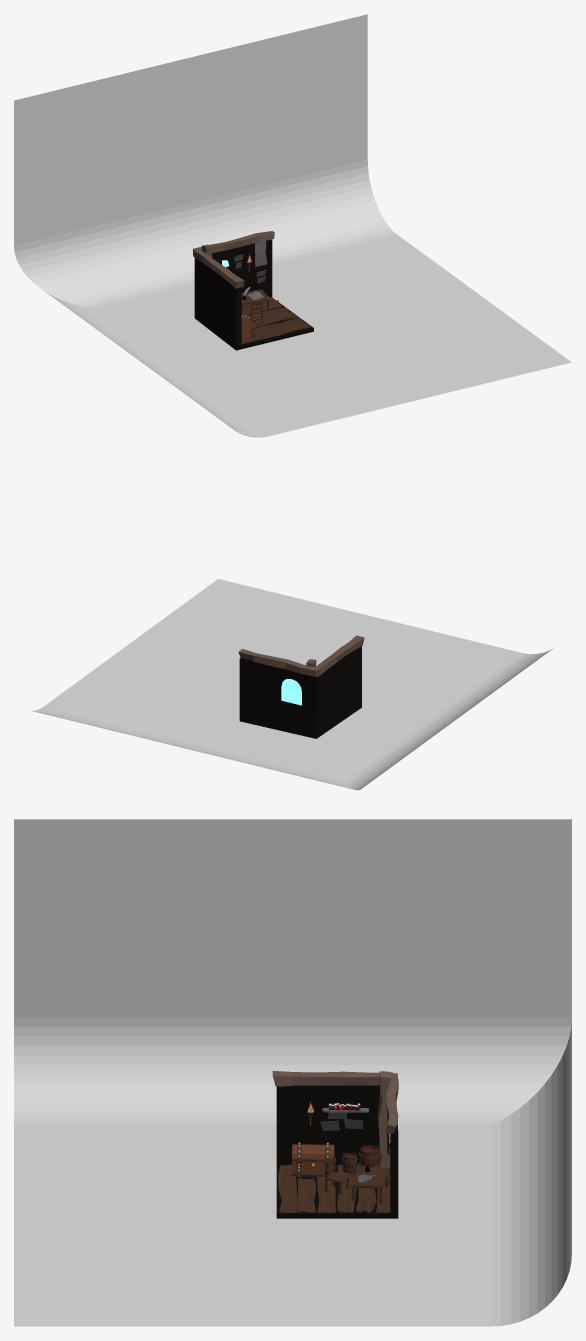
The model's file is medieval+study+room.glb.
3 renders of one model, top to bottom at view 1: azimuth 30°, elevation 25°; view 2: azimuth 150°, elevation 25°; view 3: azimuth 270°, elevation 25°, orthographic. The views are drawn at different scales.
Parts seen in each view (by area): view 1: Plane.013, Cube.007, Plane.008; view 2: Plane.013, Cube.007, Plane.008, Cube.006; view 3: Plane.013, Cube.007, Plane.008, Cube.011, Plane, Plane.006.
Part boxes in pixels (left/top/right/bottom): Plane.013: left=14, top=14, right=571, bottom=437; Cube.007: left=194, top=239, right=313, bottom=350; Plane.008: left=193, top=231, right=274, bottom=288; Plane.013: left=30, top=579, right=553, bottom=790; Cube.007: left=239, top=646, right=361, bottom=738; Plane.008: left=238, top=635, right=364, bottom=676; Cube.006: left=281, top=679, right=301, bottom=705; Plane.013: left=14, top=819, right=571, bottom=1326; Cube.007: left=276, top=1085, right=398, bottom=1218; Plane.008: left=272, top=1071, right=398, bottom=1167; Cube.011: left=290, top=1142, right=334, bottom=1177; Plane: left=278, top=1164, right=297, bottom=1212; Plane.006: left=350, top=1167, right=389, bottom=1203.
Size of the model in its own units: 14.91 by 8.08 by 14.91.
